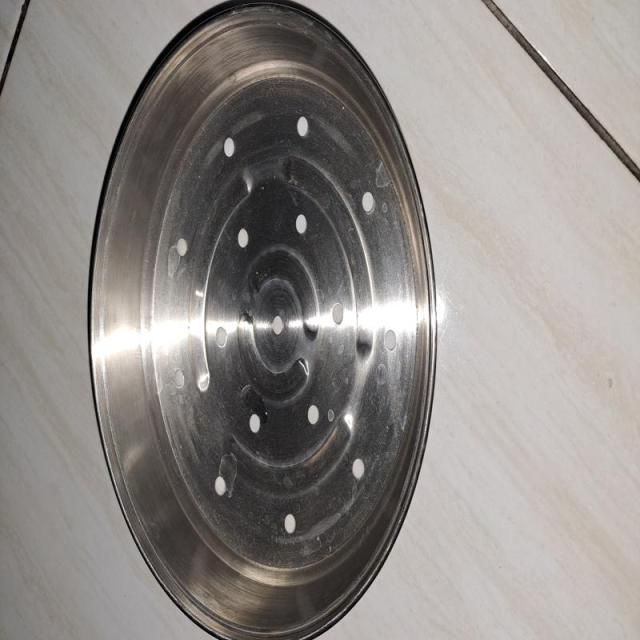Anorganik: (79, 0, 442, 640)
